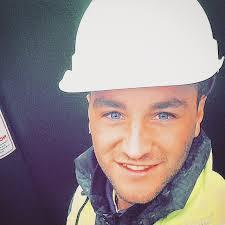helmet: (58, 0, 224, 94)
